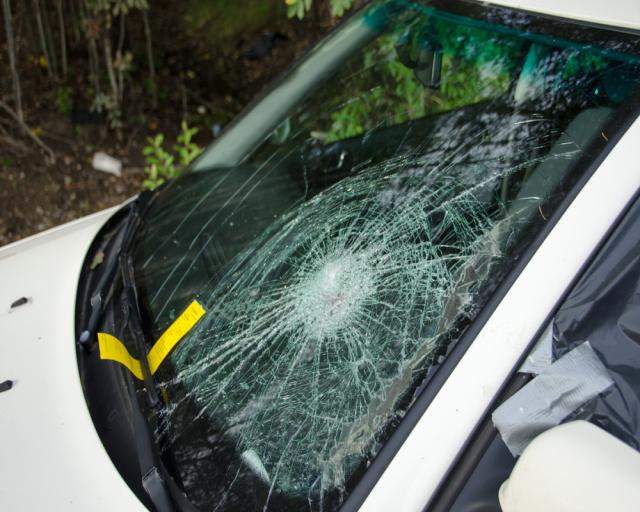glass shatter: (129, 0, 640, 512)
